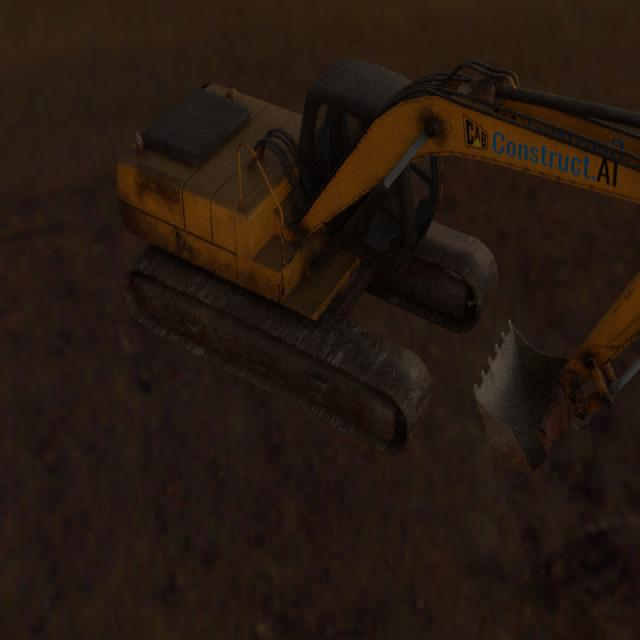excavator: (116, 56, 640, 472)
